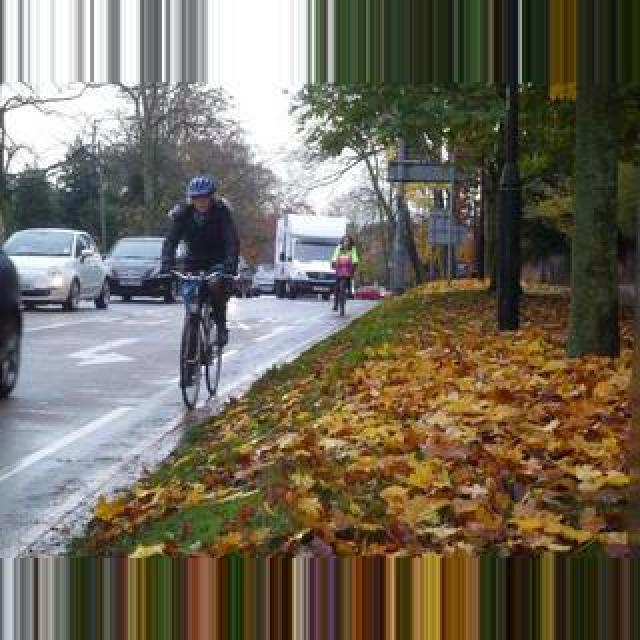Bus-Bike: (2, 226, 112, 312), (104, 236, 174, 304), (0, 246, 22, 400), (252, 262, 276, 296)
MC-Bike: (158, 174, 244, 378), (330, 234, 358, 310)
Person: (175, 270, 235, 410), (332, 276, 352, 314)
Person-Bike: (272, 214, 348, 300)
